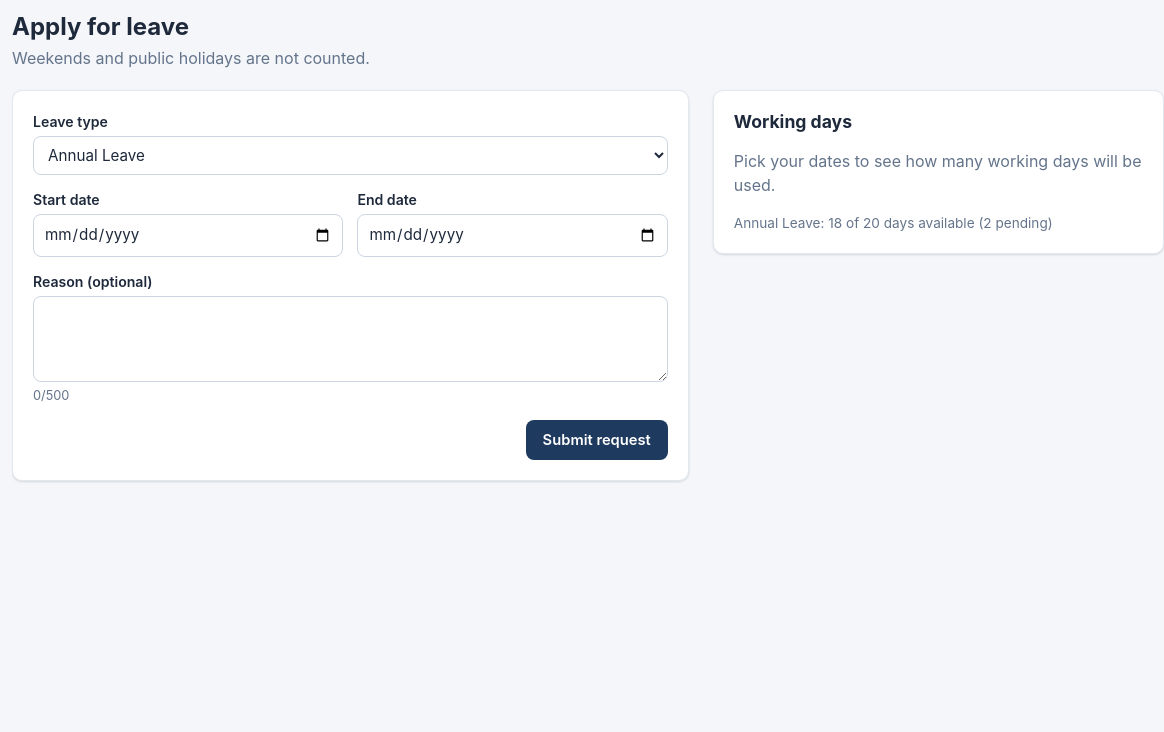
Test: ApplyLeavePage › shows the API's business-rule error when submission is refused
This screenshot has width=1164, height=732.
Check: the dropdown labelled "Leave type" is shown, box [33,136,668,175]
Type "2030-03-04" into the date field labelled "Start date" at (188,236), box [33,214,343,257]
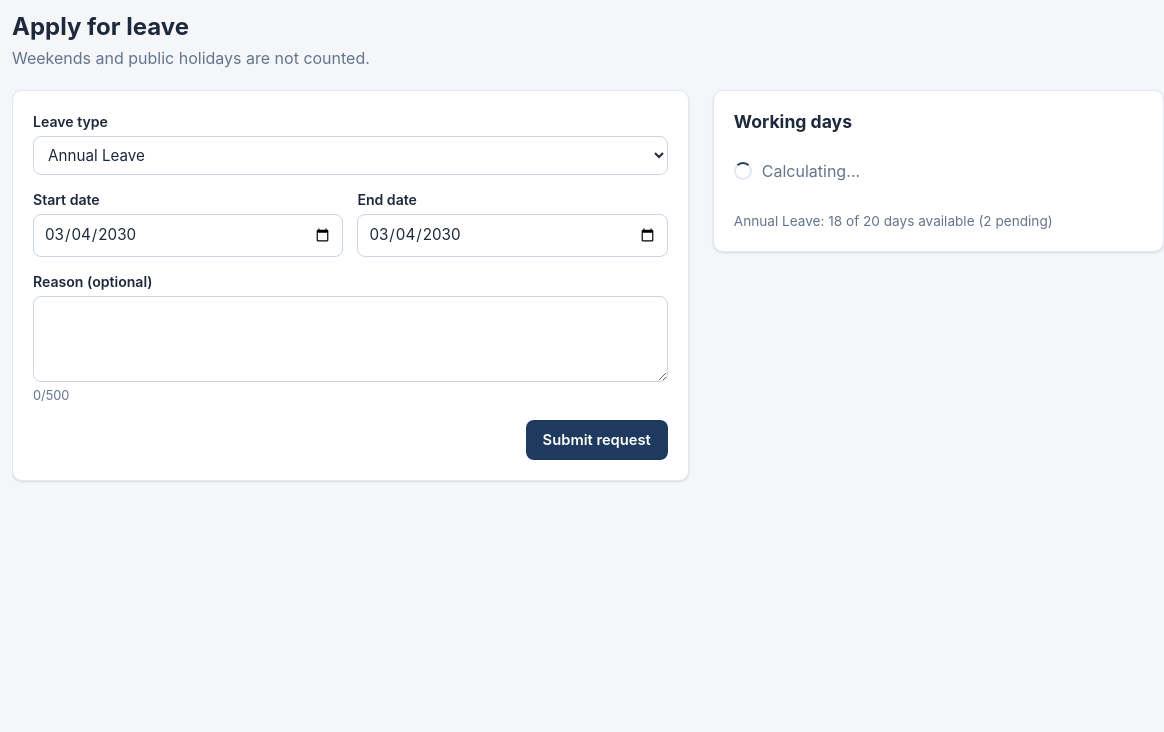
Type "2030-03-10" into the date field labelled "End date" at (513,236), box [357,214,668,257]
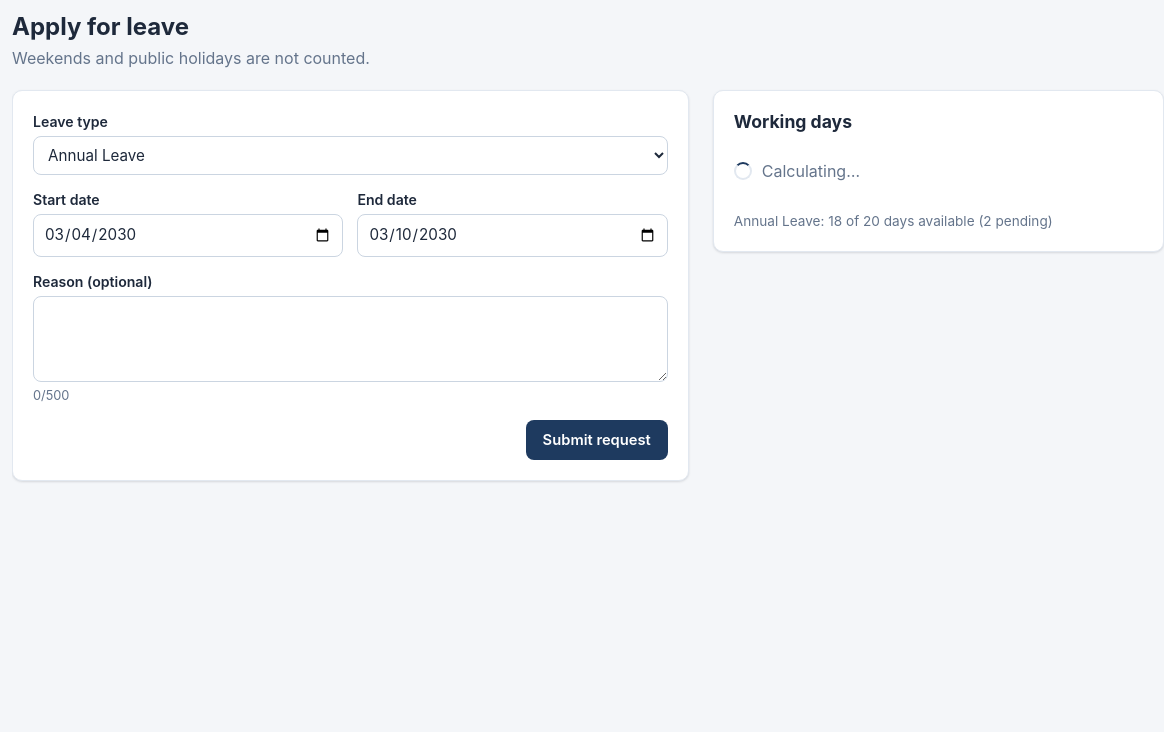
Click the button "Submit request" at (597,440), box [526,420,668,460]
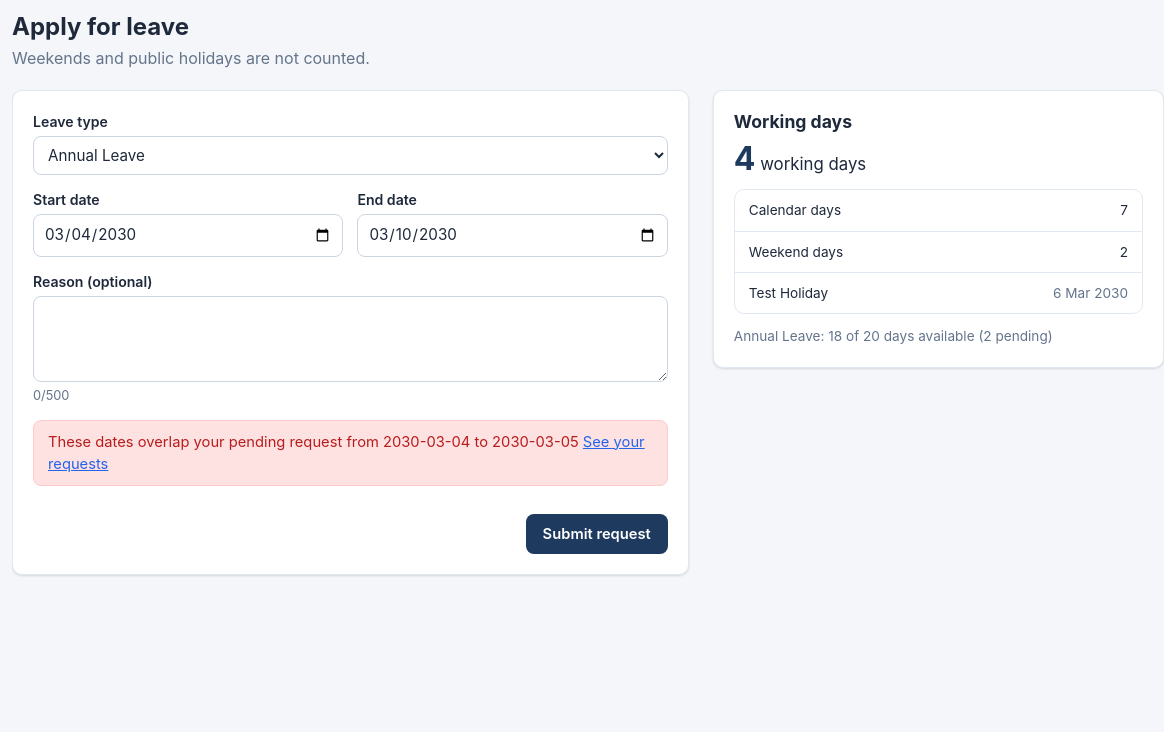
Check: the text "overlap your pending request" is shown, box [48,433,579,451]
Check: the link "See your requests" is shown, box [48,433,645,473]
